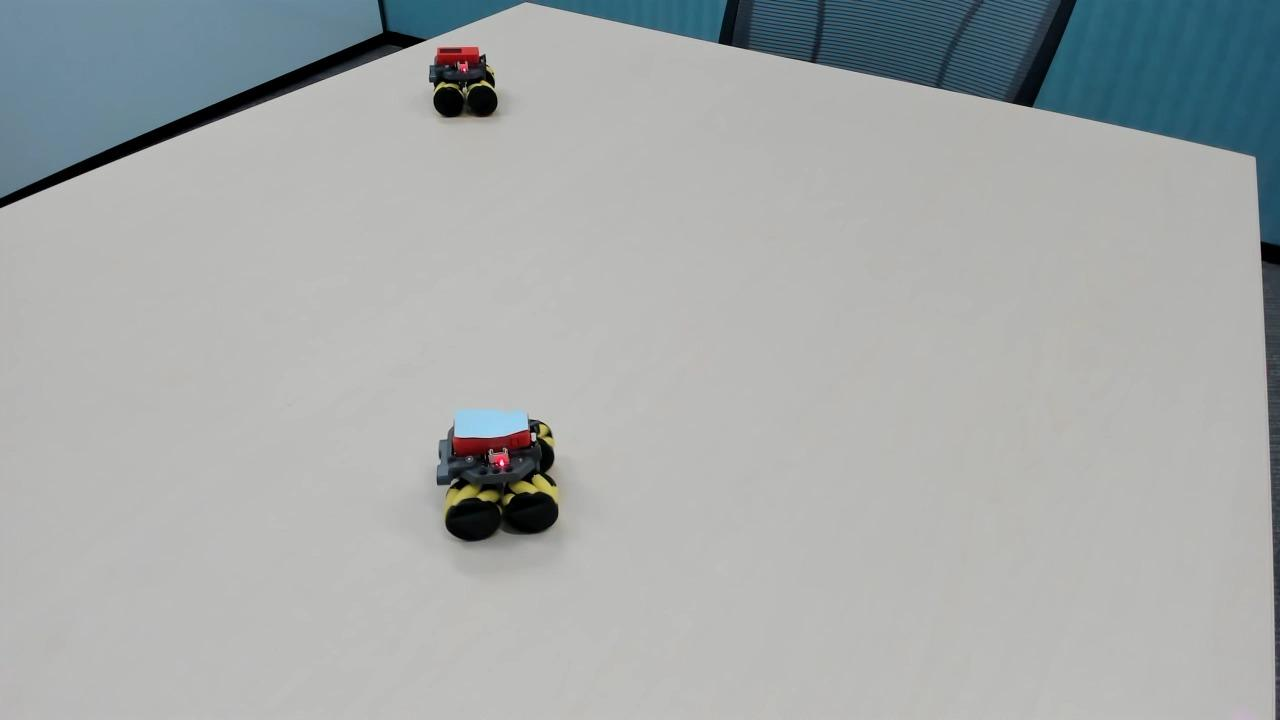B-Robot: (424, 395, 580, 559)
R-Robot: (421, 41, 513, 131)
